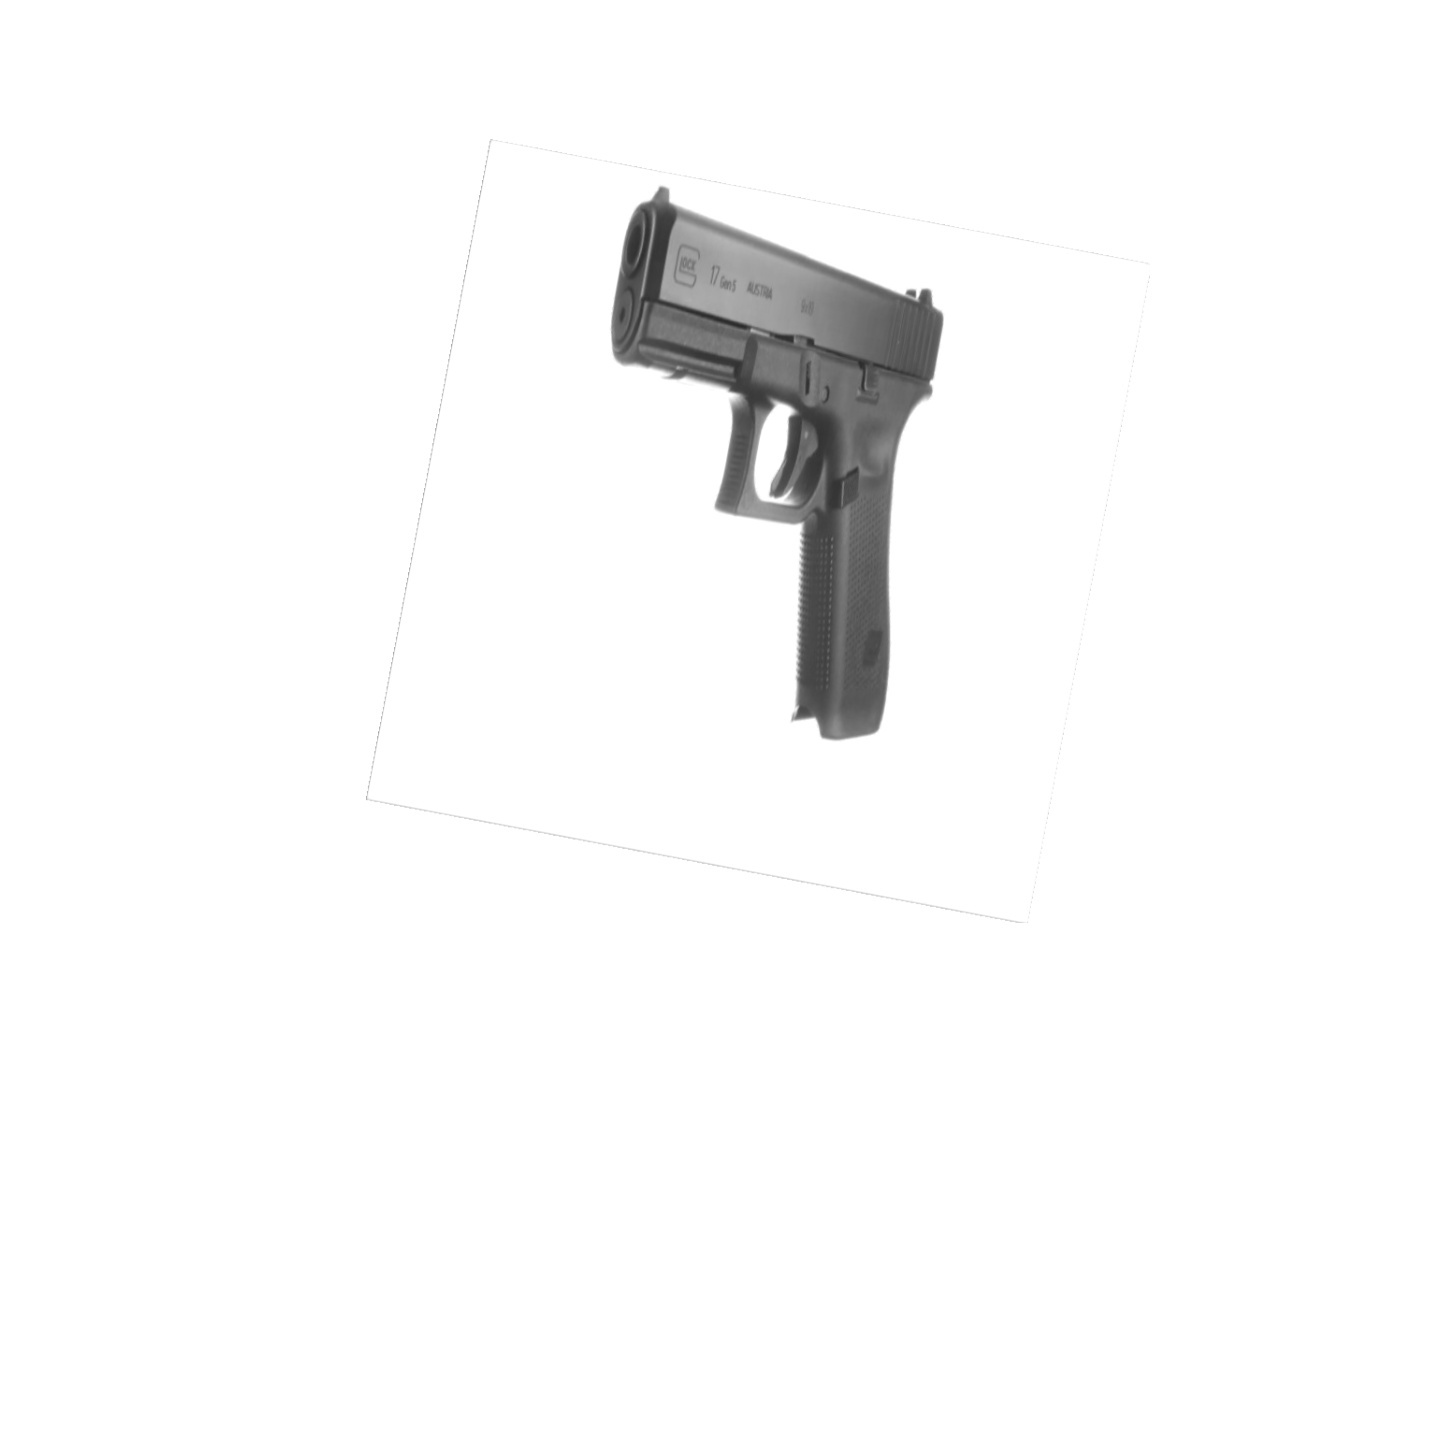gun: (594, 186, 957, 747)
